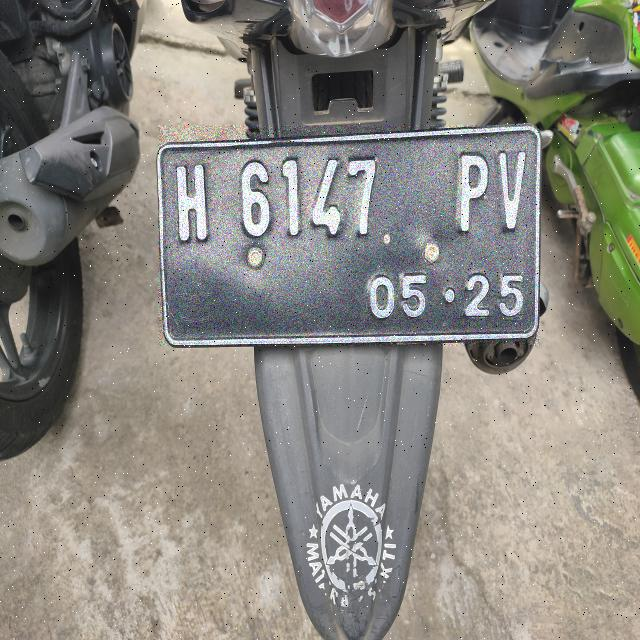plate: (158, 126, 539, 345)
